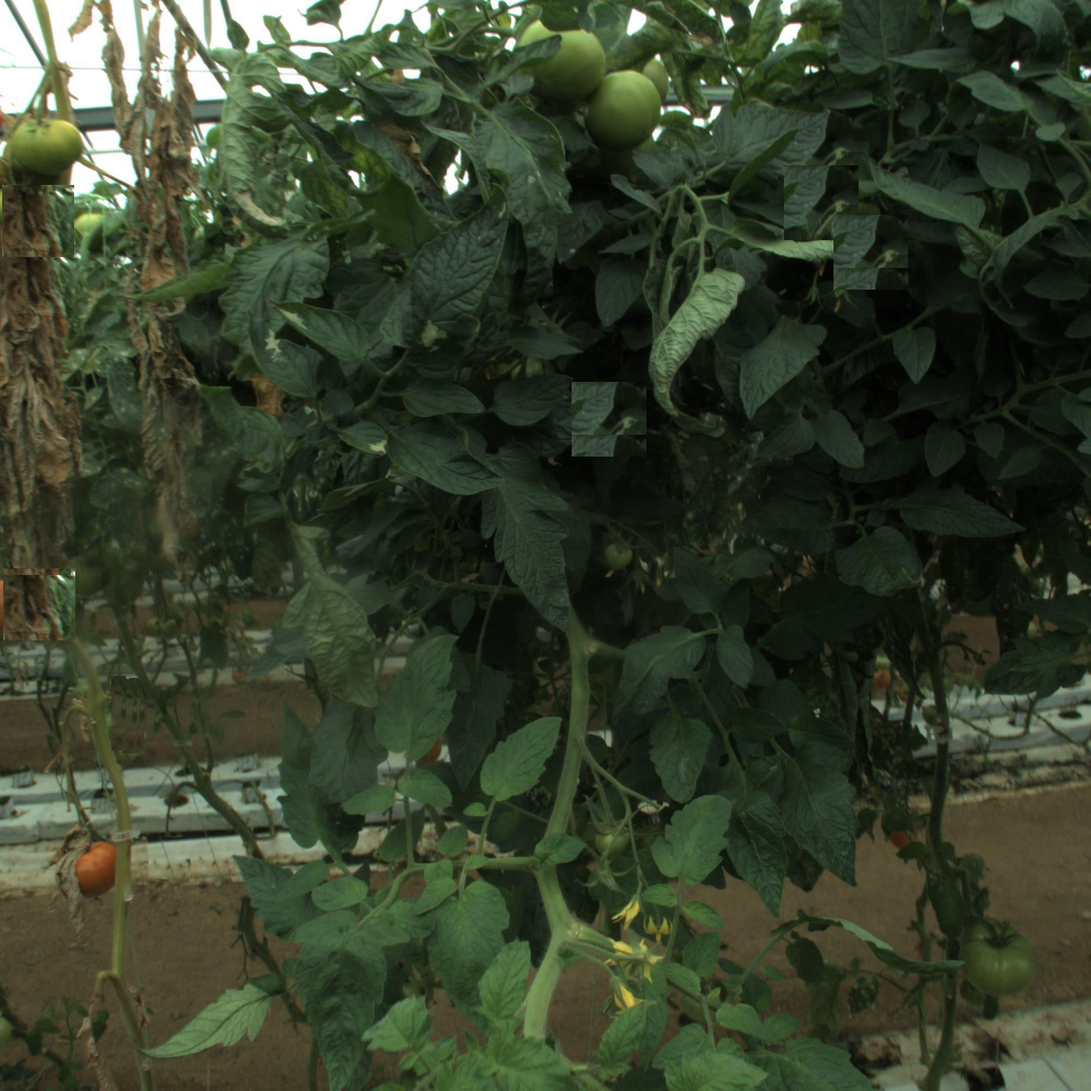fully-ripe: (56, 832, 121, 897)
unripe: (513, 14, 605, 105), (11, 101, 85, 176), (963, 923, 1037, 997), (586, 73, 660, 147)
